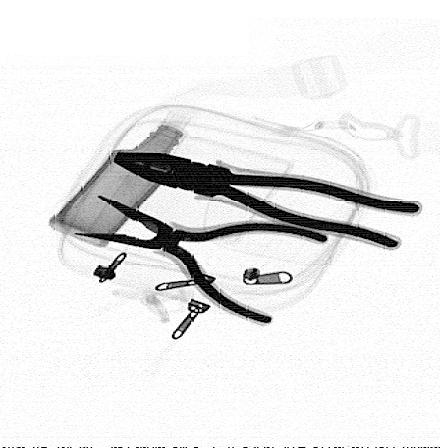Pliers: (73, 194, 332, 328), (112, 151, 424, 251)
